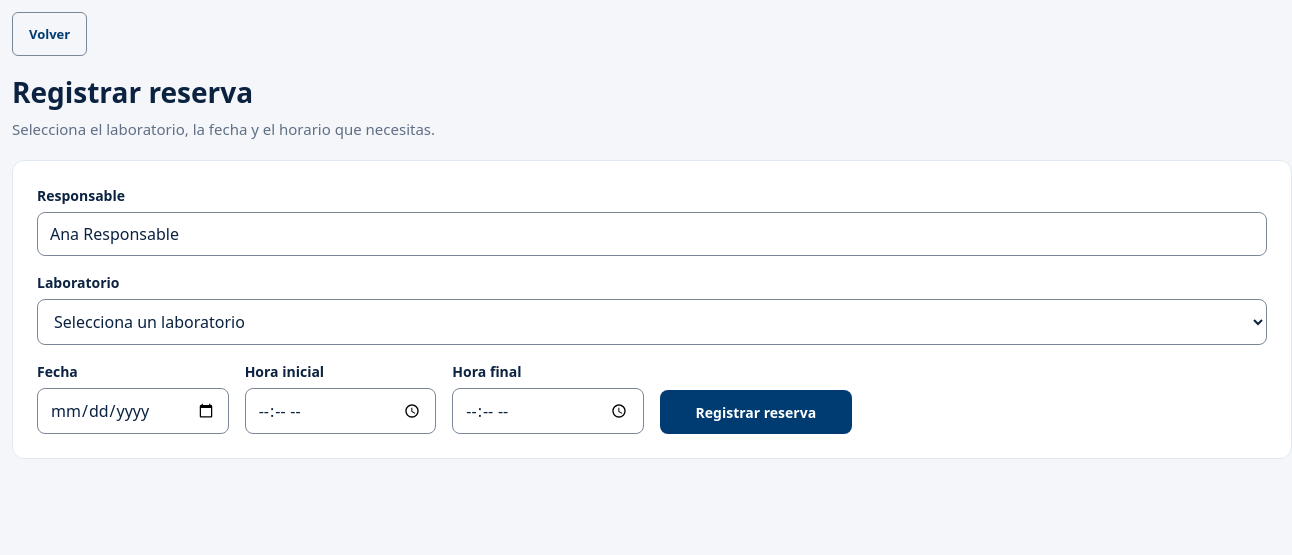
responsable es solo lectura y envío vacío anuncia errores sin peticiones
expect the field labelled "Responsable" holds "Ana Responsable": met, box x1=37 y1=212 x2=1267 y2=256
What coordinates should you click on to do the following:
click the button "Registrar reserva"
I would click on:
 (756, 412)
Its box is x1=660 y1=390 x2=852 y2=434.
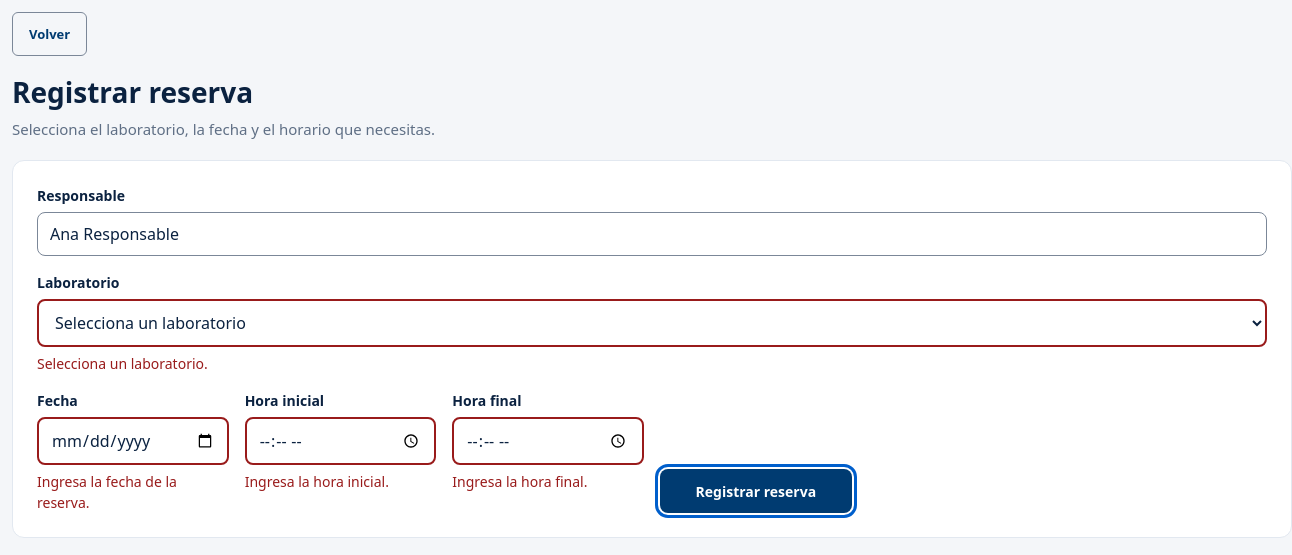
expect the number of messages is 4: met, box x1=37 y1=354 x2=208 y2=373; x1=37 y1=472 x2=177 y2=512; x1=245 y1=472 x2=389 y2=491; x1=452 y1=472 x2=587 y2=491
